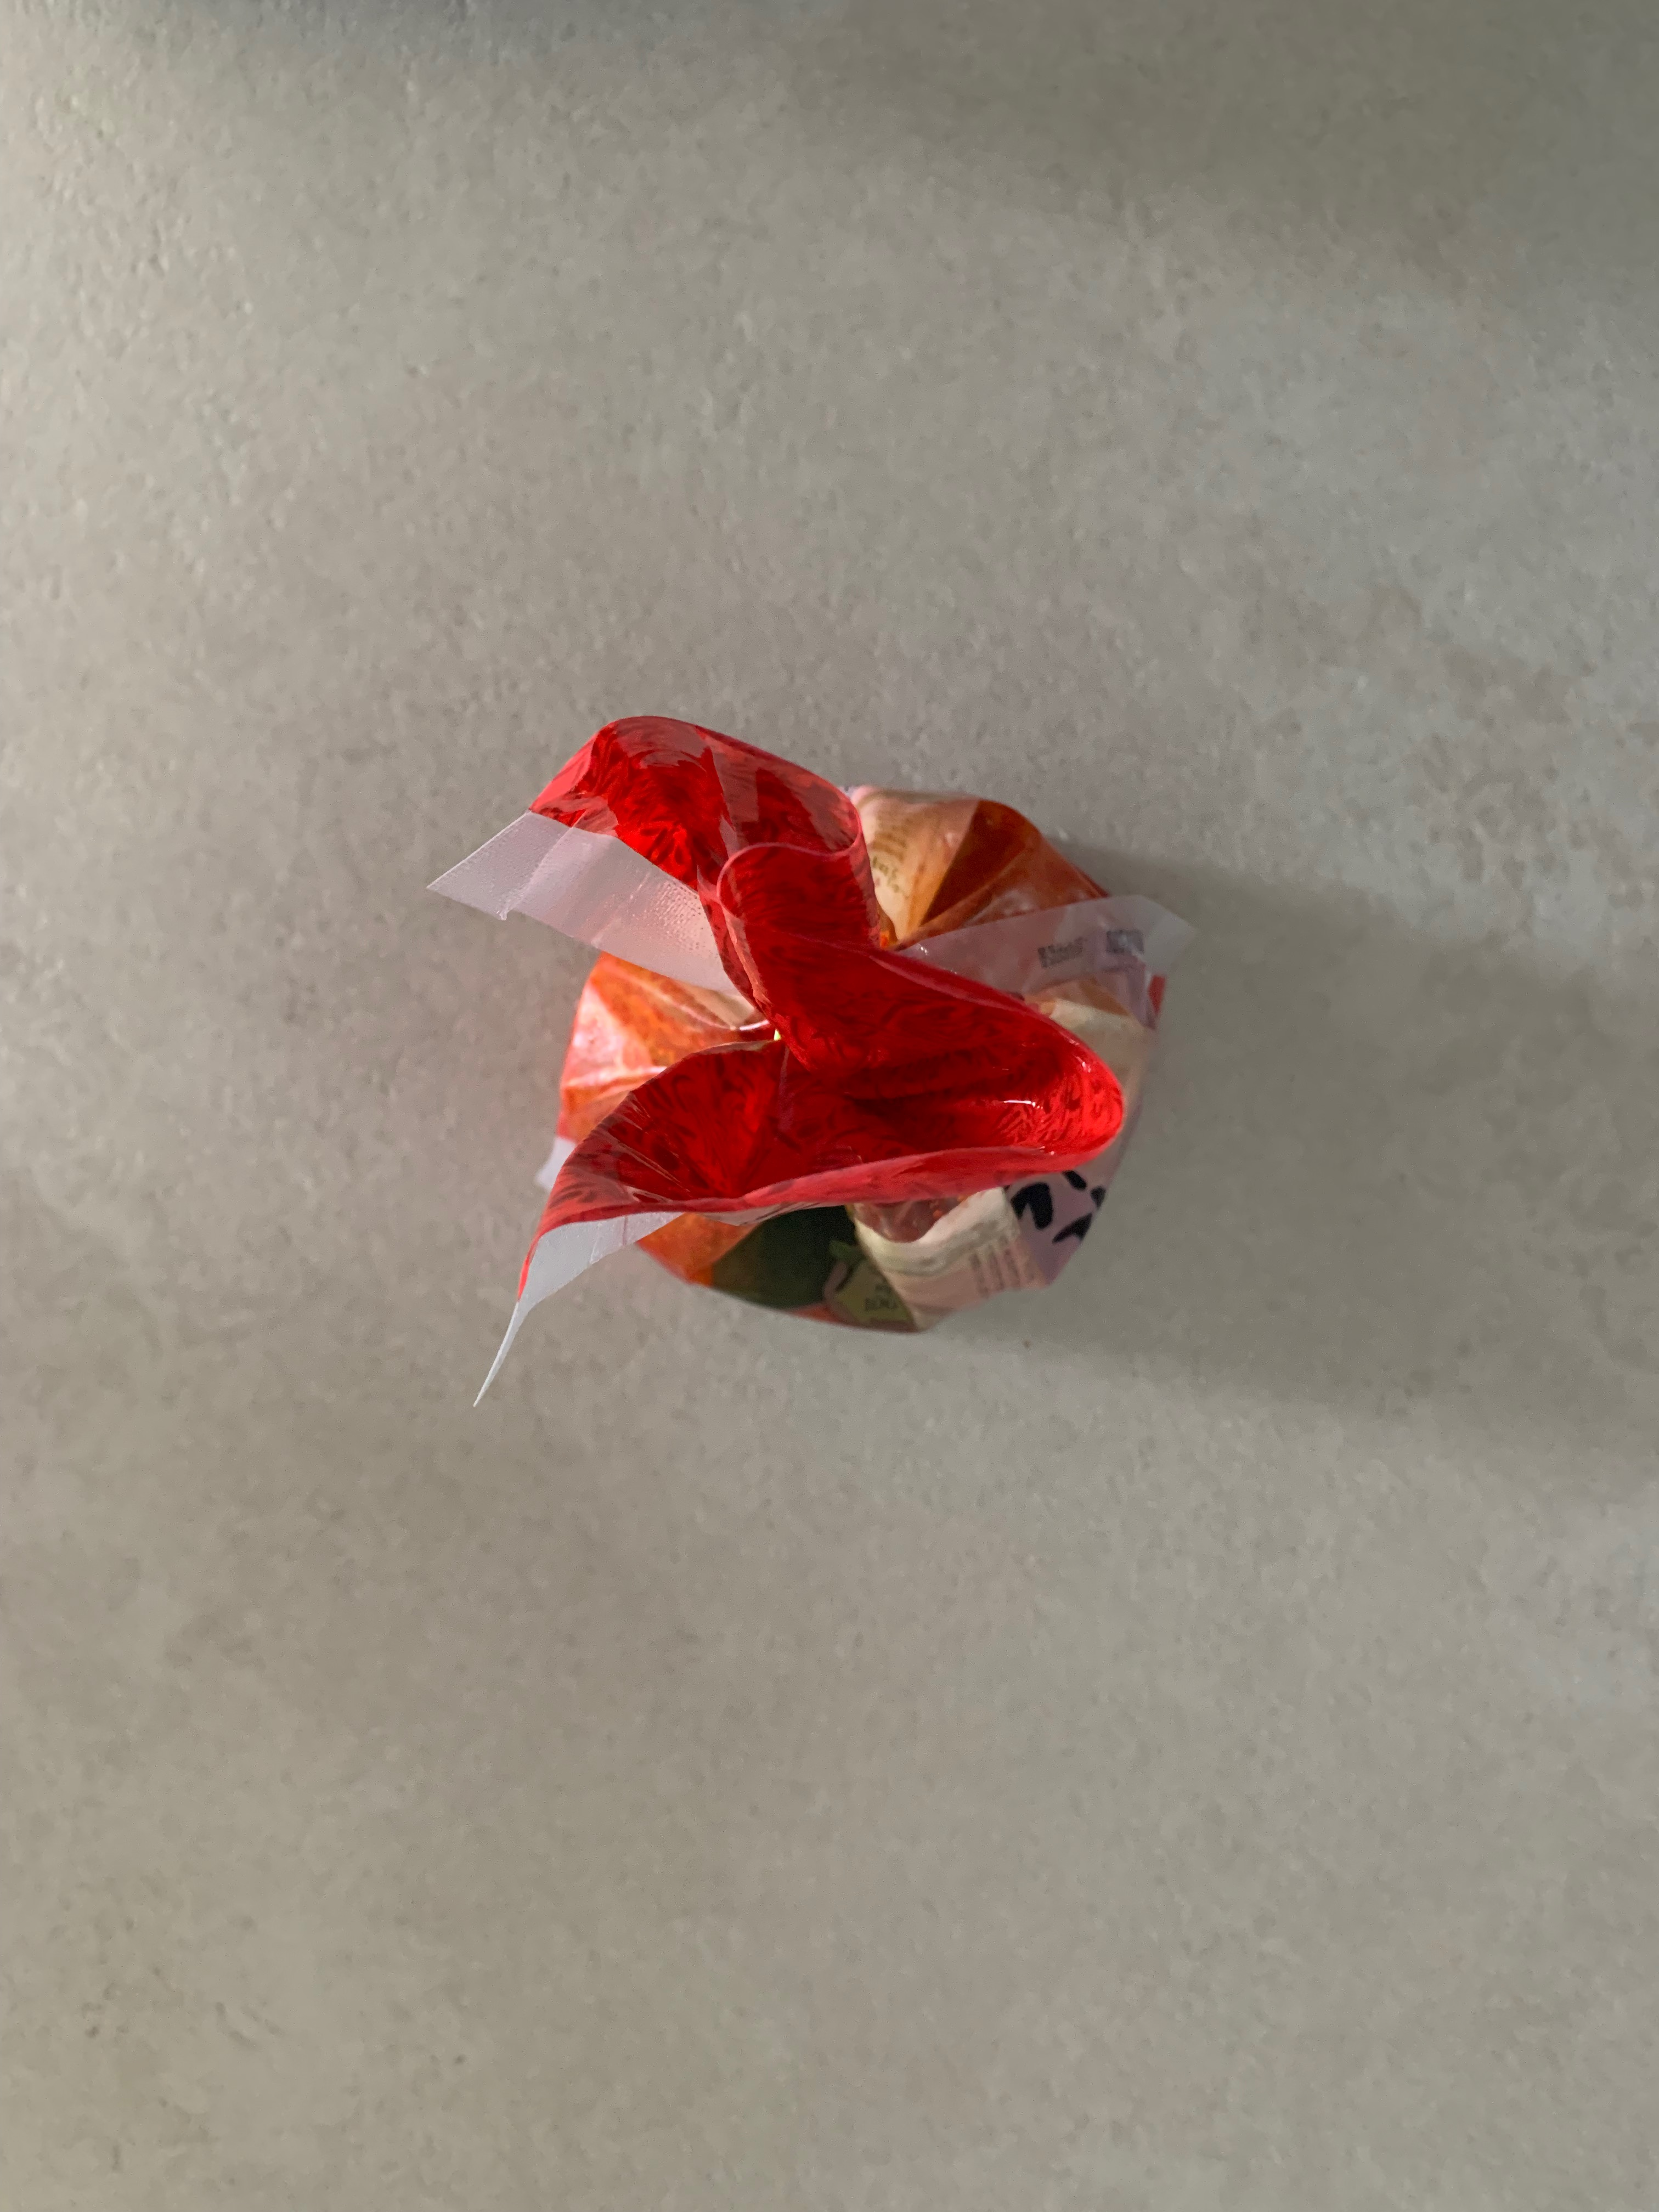kimchi: (537, 714, 1168, 1336)
